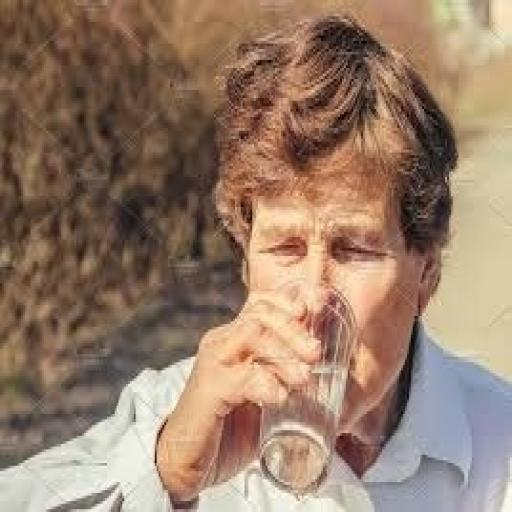drinking: (246, 283, 358, 504)
